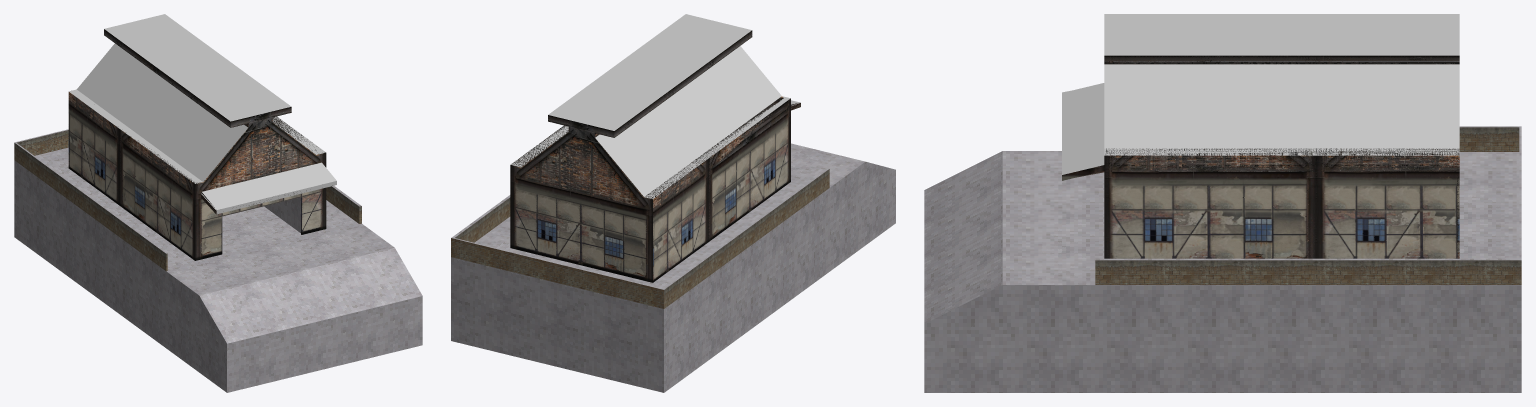
File: Oficina.fbx
3 renders of one model, left to right at view 1: azimuth 30°, elevation 25°; view 2: azimuth 150°, elevation 25°; view 3: azimuth 270°, elevation 25°, orthographic. The views are drawn at different scales.
Visible parts, largest first — view 1: LOL, HI, Muro_Redor; view 2: LOL, HI, Muro_Redor; view 3: LOL, HI, Muro_Redor.
Part boxes in pixels (box(x1,y1,x2,y2)): LOL: box(14, 14, 422, 392); HI: box(36, 14, 393, 294); Muro_Redor: box(14, 129, 361, 271); LOL: box(451, 14, 895, 392); HI: box(475, 15, 864, 288); Muro_Redor: box(451, 168, 829, 308); LOL: box(924, 14, 1521, 392); HI: box(1002, 14, 1519, 284); Muro_Redor: box(1095, 126, 1521, 284).
Bounding box in the file's own units: 11.82 × 12 × 22.28.
